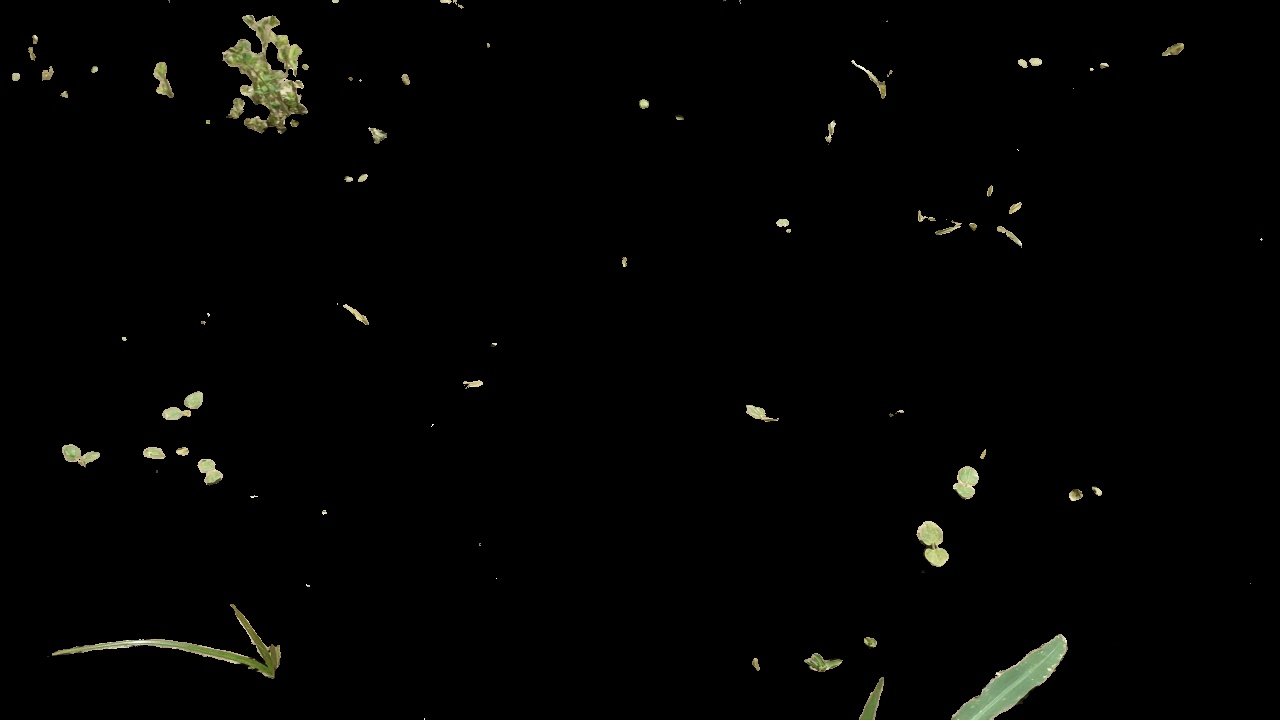crop: (819, 608, 1111, 720)
weed: (52, 601, 293, 681), (212, 14, 321, 148), (912, 169, 1046, 255), (849, 55, 896, 104), (912, 518, 955, 568), (141, 57, 178, 98), (59, 439, 103, 469), (139, 441, 185, 468), (162, 394, 206, 422), (951, 452, 978, 497), (1015, 48, 1048, 74), (802, 652, 847, 671), (193, 458, 222, 484), (338, 172, 373, 185)
